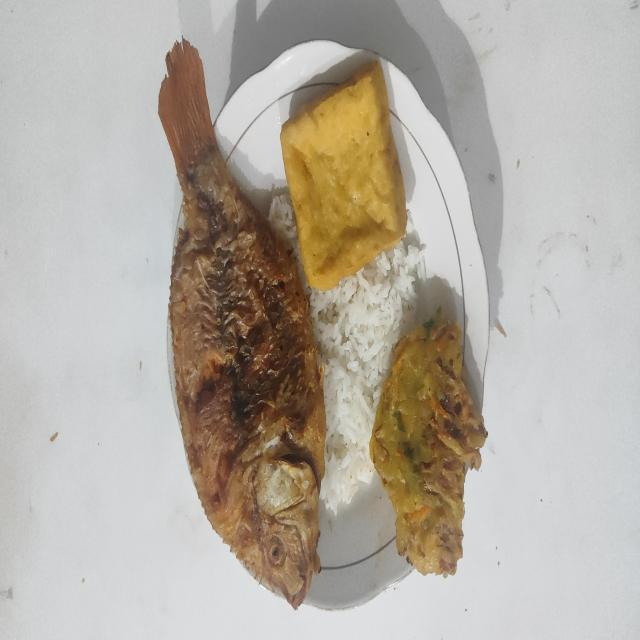ikan_mujair: (158, 40, 326, 609)
nasi_putih: (302, 223, 426, 515), (268, 192, 300, 260)
tahu_goreng: (280, 60, 408, 290)
